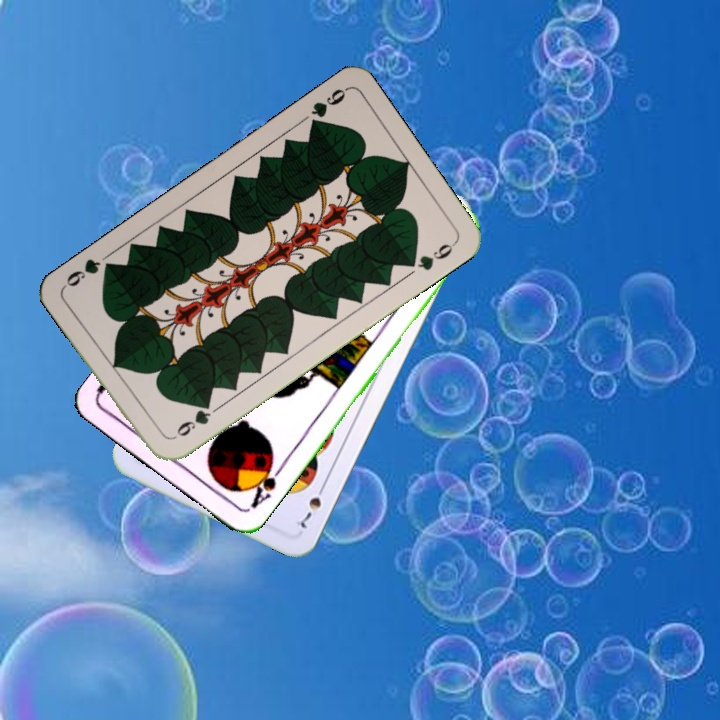G9: (305, 84, 350, 132), (172, 397, 214, 439)
S7: (291, 479, 329, 531)
SA: (243, 455, 286, 512)
